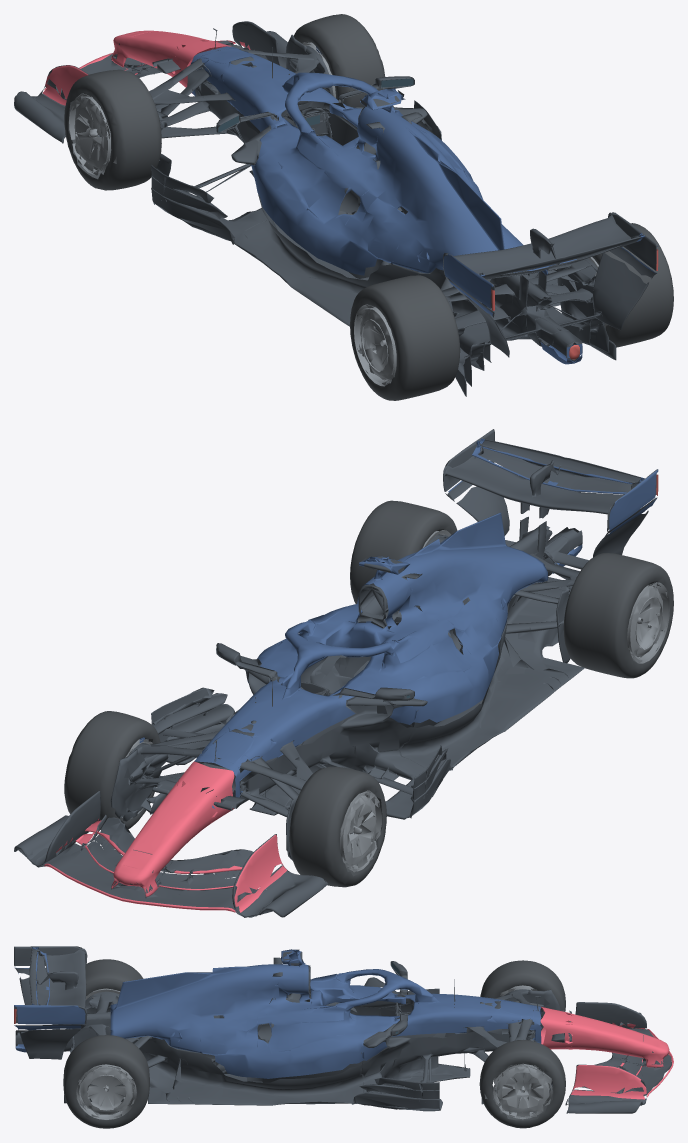
Rendered from redbull-far.glb.
3 renders of one model, top to bottom at view 1: azimuth 30°, elevation 25°; view 2: azimuth 150°, elevation 25°; view 3: azimuth 270°, elevation 25°, orthographic. The views are drawn at different scales.
Visible parts, largest first — view 1: body, wheel2, wheel0, rearFlaps, wheel1, frontFlaps, wheel3, frontWing, rearWing; view 2: body, frontFlaps, wheel2, rearFlaps, frontWing, wheel0, wheel1, wheel3, rearWing; view 3: body, wheel3, wheel1, frontFlaps, rearFlaps, frontWing, wheel0, wheel2, rearWing.
Part boxes in pixels (<box>): body: <box>61,28,648,396</box>; wheel2: <box>350,275,460,400</box>; wheel0: <box>64,69,161,190</box>; rearFlaps: <box>443,212,658,310</box>; wheel1: <box>294,14,385,106</box>; frontFlaps: <box>46,21,280,99</box>; wheel3: <box>588,223,673,347</box>; frontWing: <box>14,31,287,141</box>; rearWing: <box>445,247,656,317</box>; body: <box>110,486,648,884</box>; frontFlaps: <box>46,781,283,904</box>; wheel2: <box>563,553,673,678</box>; rearFlaps: <box>443,429,658,531</box>; frontWing: <box>14,815,327,917</box>; wheel0: <box>289,766,386,887</box>; wheel1: <box>64,711,160,829</box>; wheel3: <box>350,500,457,603</box>; rearWing: <box>445,461,657,537</box>; body: <box>15,949,572,1113</box>; wheel3: <box>63,1035,149,1128</box>; wheel1: <box>479,1040,565,1128</box>; frontFlaps: <box>565,1002,669,1092</box>; rearFlaps: <box>14,946,87,1024</box>; frontWing: <box>568,1012,673,1113</box>; wheel0: <box>480,960,565,1011</box>; wheel2: <box>85,959,143,999</box>; rearWing: <box>14,967,85,1030</box>.
Bounding box in the file's own units: 1.9 × 1.18 × 5.39.
